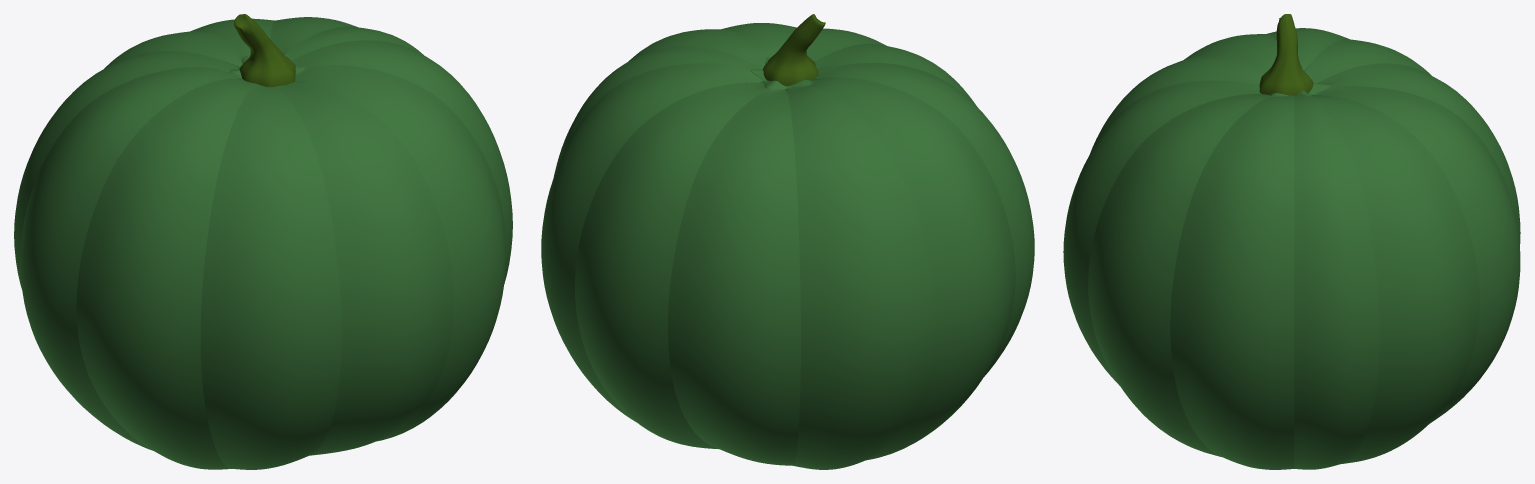
File: PimkinSeed.fbx
3 renders of one model, left to right at view 1: azimuth 30°, elevation 25°; view 2: azimuth 150°, elevation 25°; view 3: azimuth 270°, elevation 25°, orthographic. The views are drawn at different scales.
Parts seen in each view (by area): view 1: Retopo_Цилиндр.001; view 2: Retopo_Цилиндр.001; view 3: Retopo_Цилиндр.001.
Boxes of the visible parts, x1,y1,x2,y2 form: Retopo_Цилиндр.001: [14, 14, 512, 469]; Retopo_Цилиндр.001: [541, 14, 1034, 469]; Retopo_Цилиндр.001: [1063, 14, 1520, 469].
Size of the model in its own units: 294 by 287 by 306.
